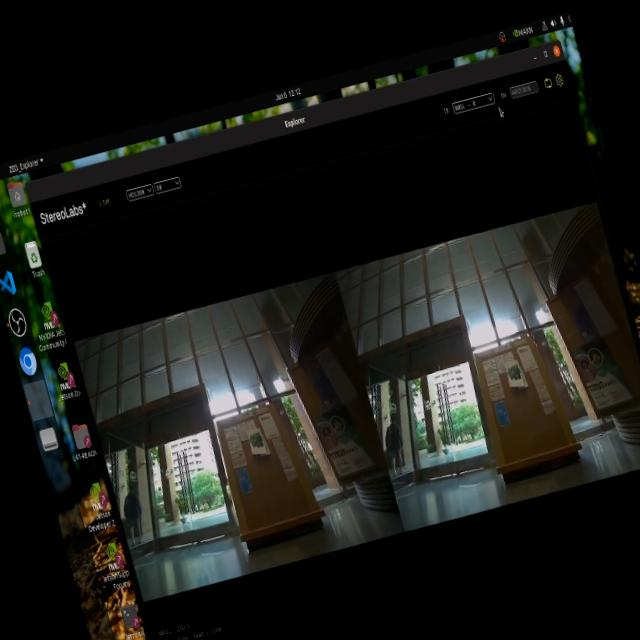green: (504, 364, 527, 392), (247, 429, 263, 452)
